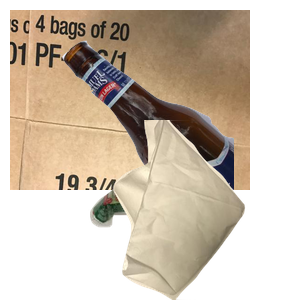cardboard: (10, 10, 250, 190)
glass: (60, 38, 300, 218)
plastic: (88, 182, 242, 300)
trash: (111, 120, 300, 300)
